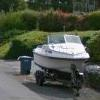Boat: (14, 32, 93, 89)
